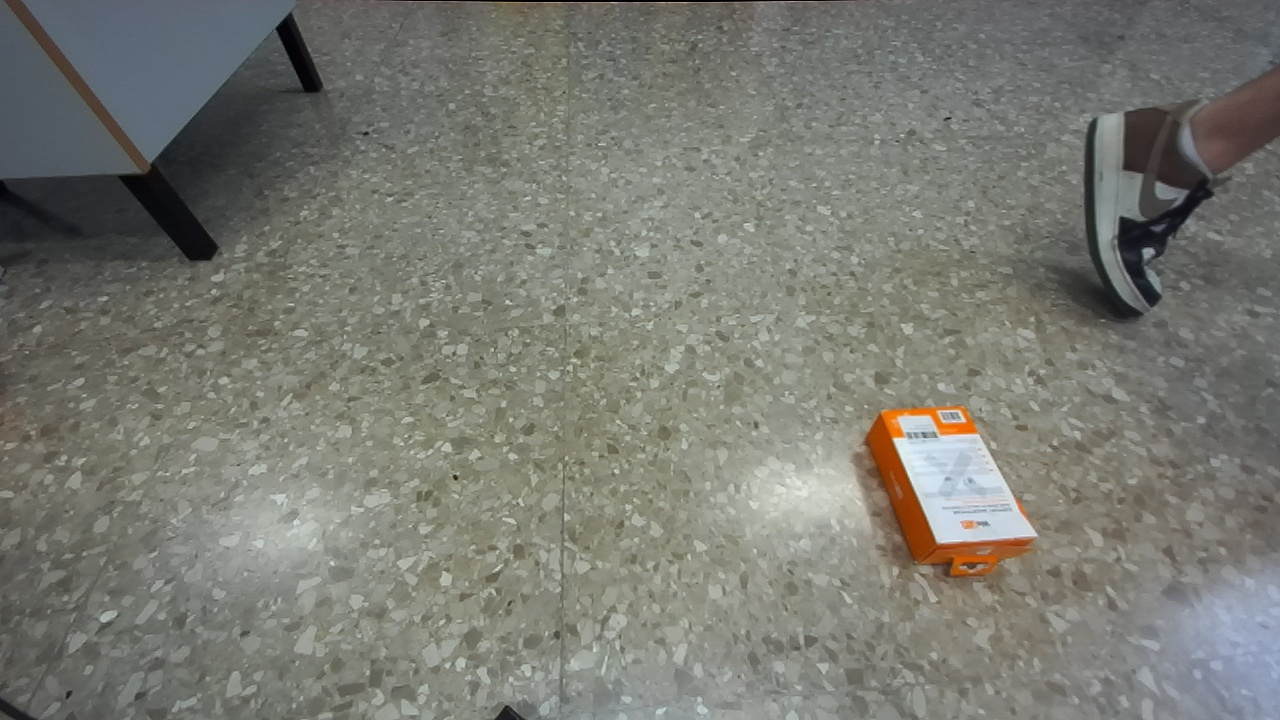caja_pcb: (867, 406, 1036, 576)
